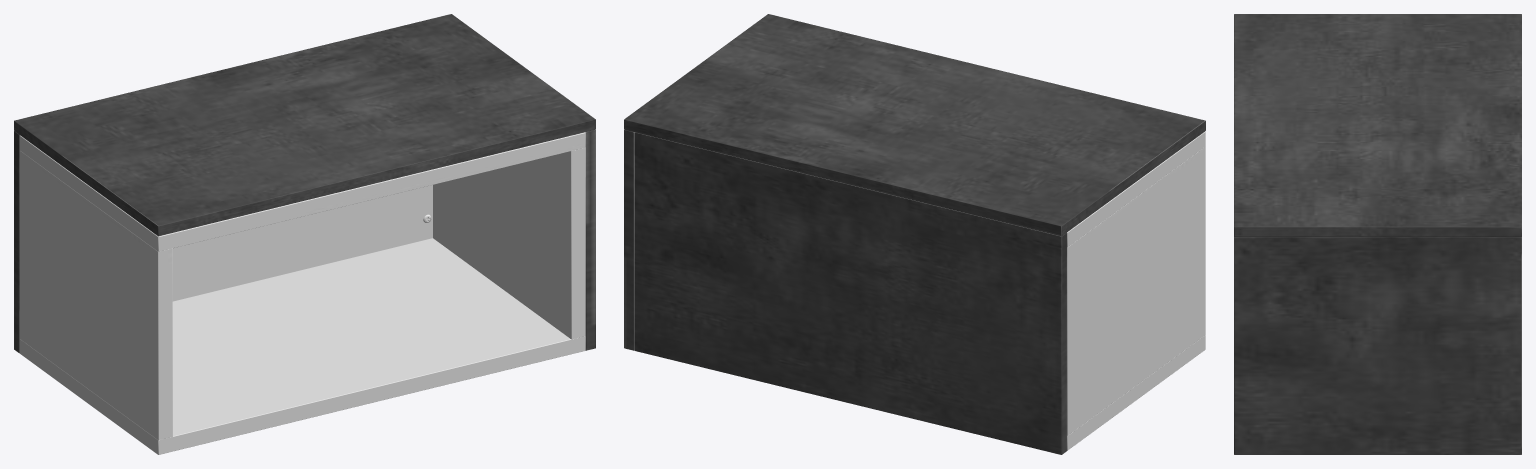
The model's file is B07QTK9CXH.glb.
3 views of the same model, side by side, from view 1: azimuth 30°, elevation 25°; view 2: azimuth 150°, elevation 25°; view 3: azimuth 270°, elevation 25° (orthographic).
Visible parts, largest first — view 1: B07QTK9CXH; view 2: B07QTK9CXH; view 3: B07QTK9CXH.
Boxes of the visible parts, left/top/right/bottom form: B07QTK9CXH: left=14, top=14, right=595, bottom=454; B07QTK9CXH: left=624, top=14, right=1205, bottom=454; B07QTK9CXH: left=1234, top=14, right=1521, bottom=454.
Size of the model in its own units: 0.6998 by 0.3498 by 0.3998.
1 material, 1 textured.
